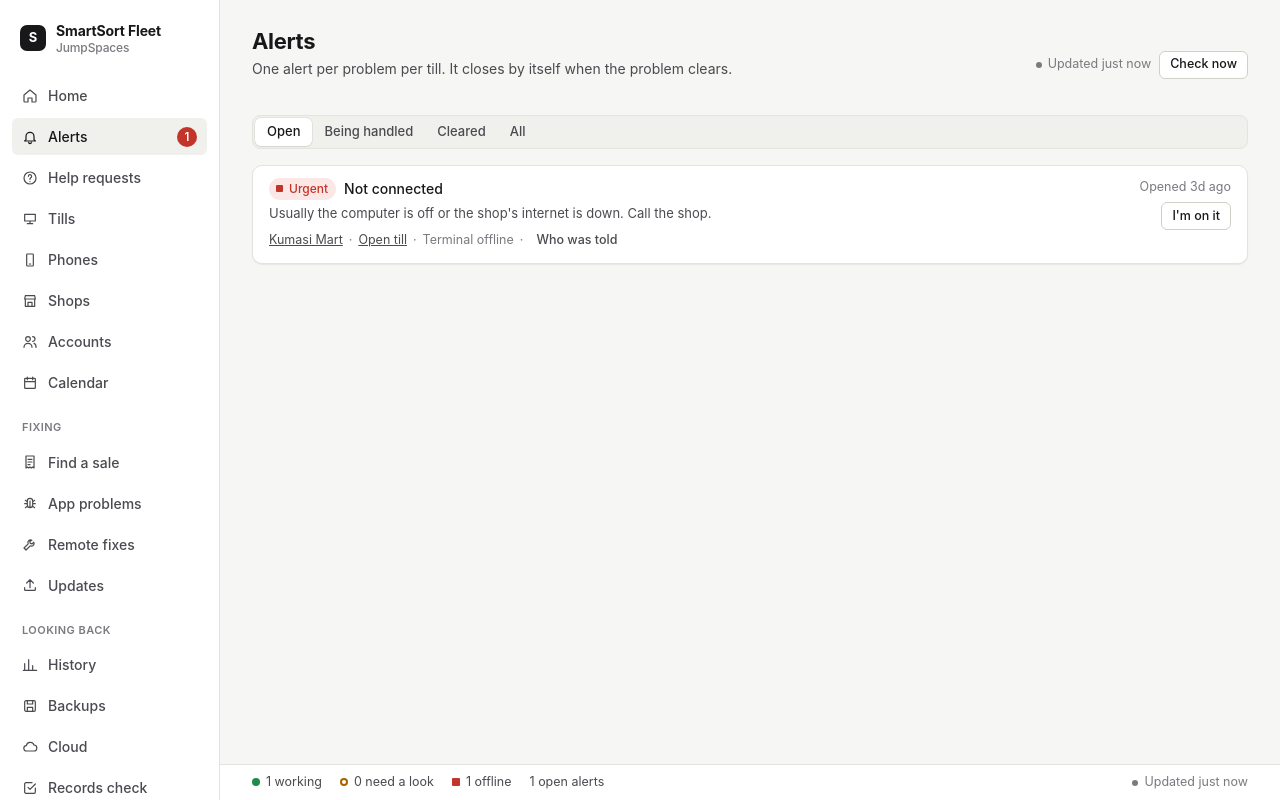
Scenario: Alerts › takes an alert and refetches the list
This screenshot has width=1280, height=800.
Click the button "I'm on it". click: (1196, 216)
box: x1=1161 y1=202 x2=1231 y2=230
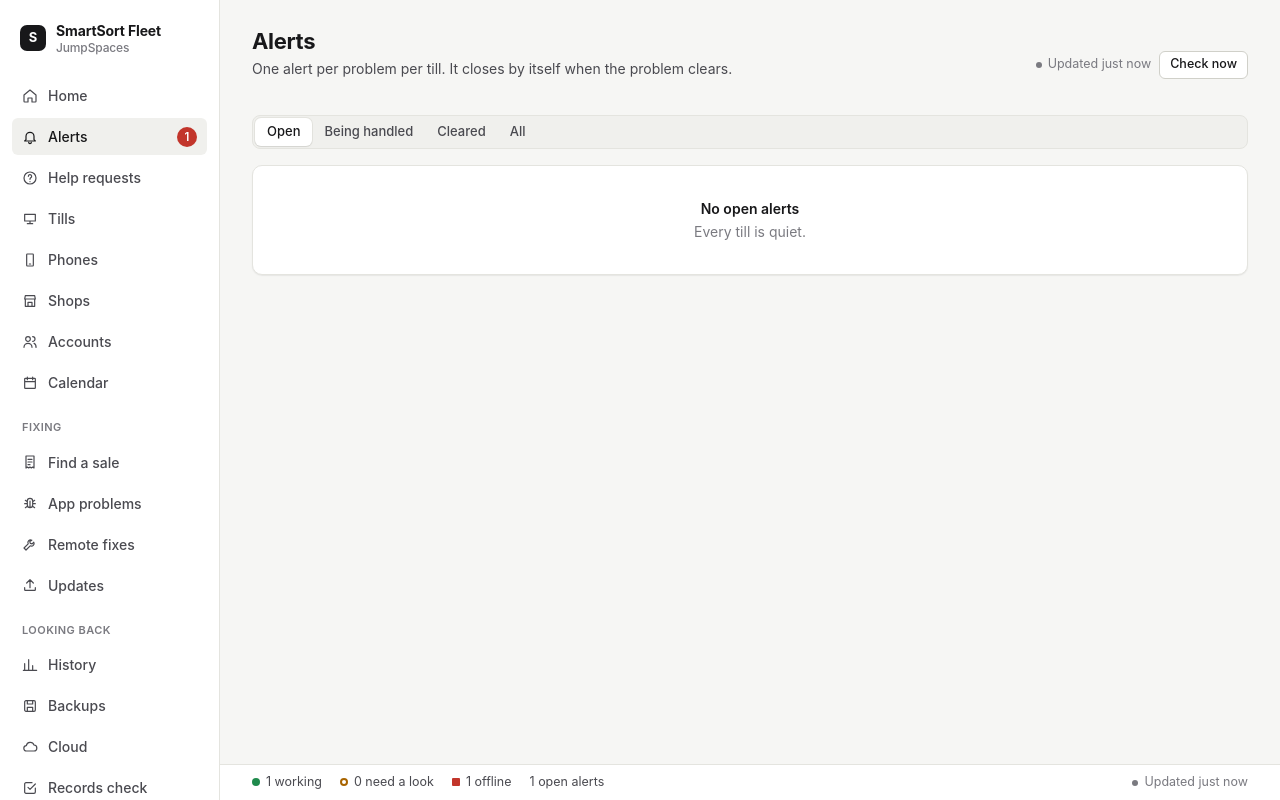
Expected: the text "No open alerts" is shown, x1=701 y1=200 x2=799 y2=216
